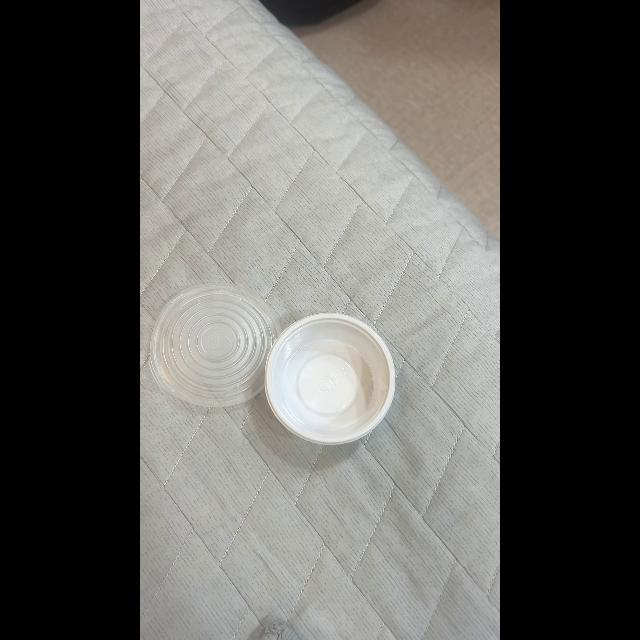clean: (266, 312, 396, 443), (148, 284, 282, 406)
